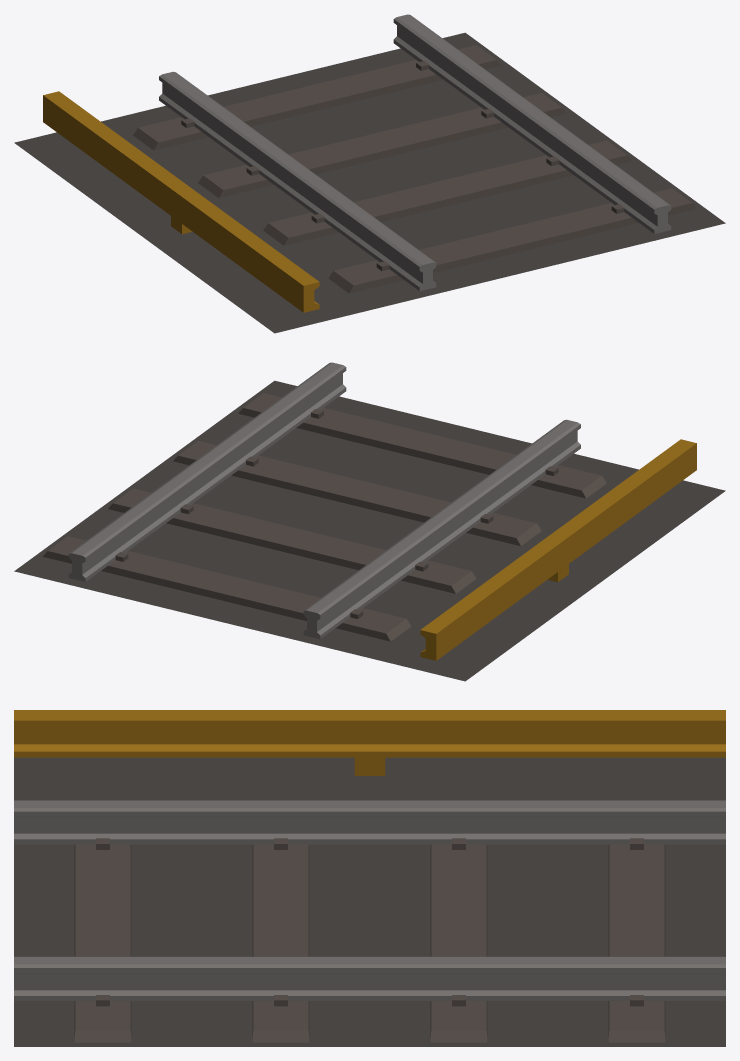
File: SM_Train_Track_Underground_Single_Track.fbx
The picture shows the model from 3 angles, top to bottom: view 1: azimuth 30°, elevation 25°; view 2: azimuth 150°, elevation 25°; view 3: azimuth 270°, elevation 25°; orthographic projection. The views are drawn at different scales.
Visible parts, largest first — view 1: SM_Train_Track_Underground_Single_Track; view 2: SM_Train_Track_Underground_Single_Track; view 3: SM_Train_Track_Underground_Single_Track.
Part boxes in pixels (bbox=[...]): SM_Train_Track_Underground_Single_Track: bbox=[14, 14, 725, 333]; SM_Train_Track_Underground_Single_Track: bbox=[14, 362, 725, 681]; SM_Train_Track_Underground_Single_Track: bbox=[14, 710, 725, 1046].
Bounding box in the file's own units: 350 × 30 × 350.
